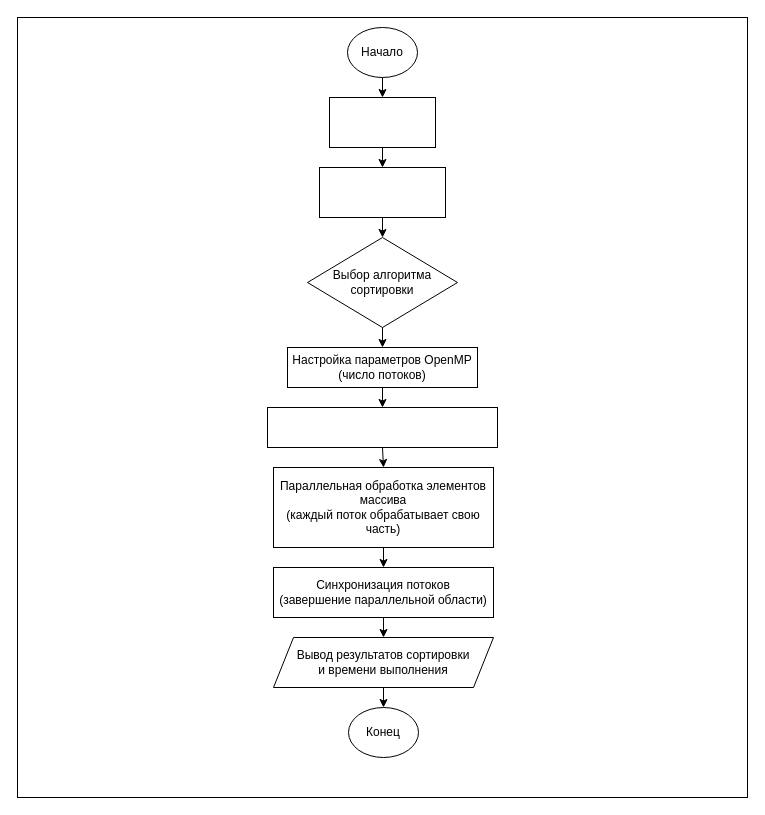
Image size: 765x815. Some labels were removed from this diagram. Each missing label, with the box of its shape:
Вход в параллельную область OpenMP (#pragma omp parallel for): (266, 406, 498, 448)
Заполнение массива случайными числами: (318, 166, 446, 218)
Создание массива данных: (328, 96, 436, 148)
